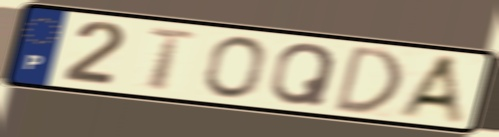2: (60, 20, 130, 89)
A: (393, 53, 469, 128)
D: (330, 43, 406, 115)
O: (202, 34, 268, 101)
Q: (267, 41, 340, 109)
T: (144, 25, 200, 94)
